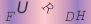D: (64, 11, 75, 22)
F: (5, 11, 15, 22)
H: (75, 10, 87, 20)
R: (41, 2, 55, 14)
U: (17, 1, 29, 14)
